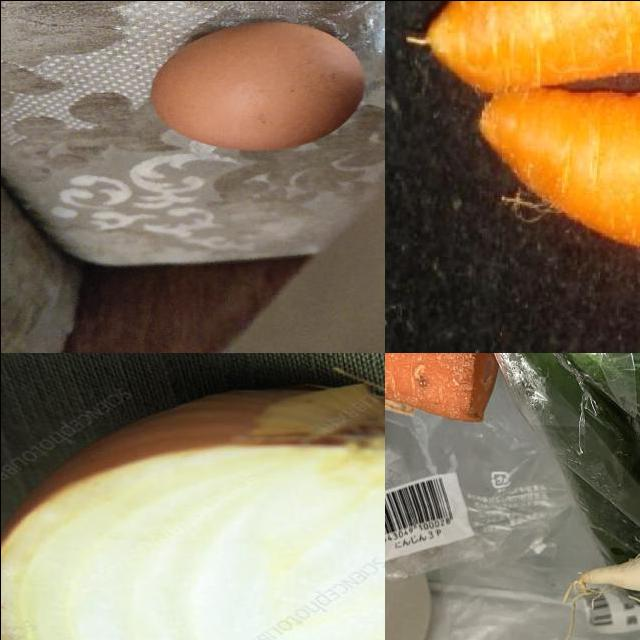carrot: (481, 86, 640, 280), (398, 1, 640, 94), (385, 353, 505, 427)
egg: (140, 16, 369, 152)
onion: (1, 378, 385, 640)
